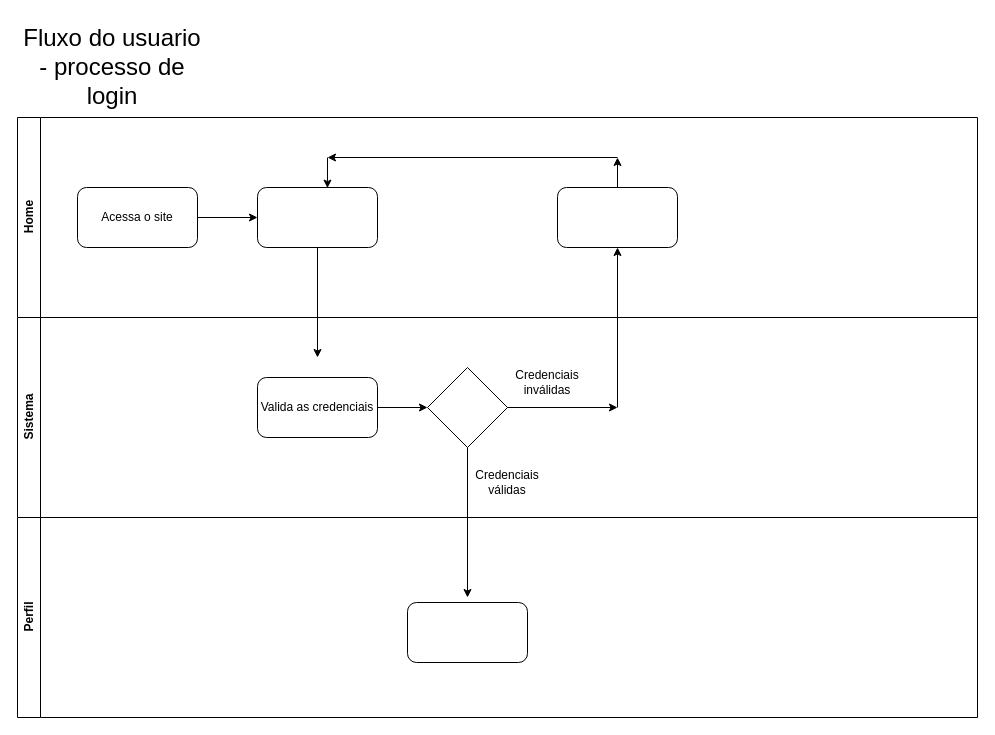
The diagram is 995 pixels wide and 735 high, and some of its shapes have lost their labels. Each missing label, with the centre of its shape:
Acessa o perfil: (x=467, y=632)
Exibe mensagem de erro: (x=617, y=217)
Realiza o login: (x=317, y=217)
